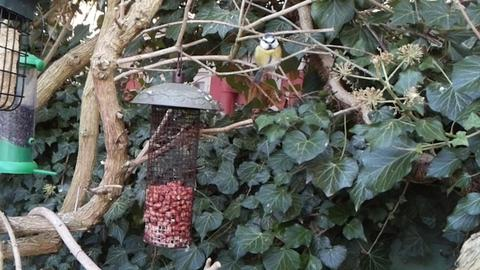blue tit: (251, 34, 282, 82)
